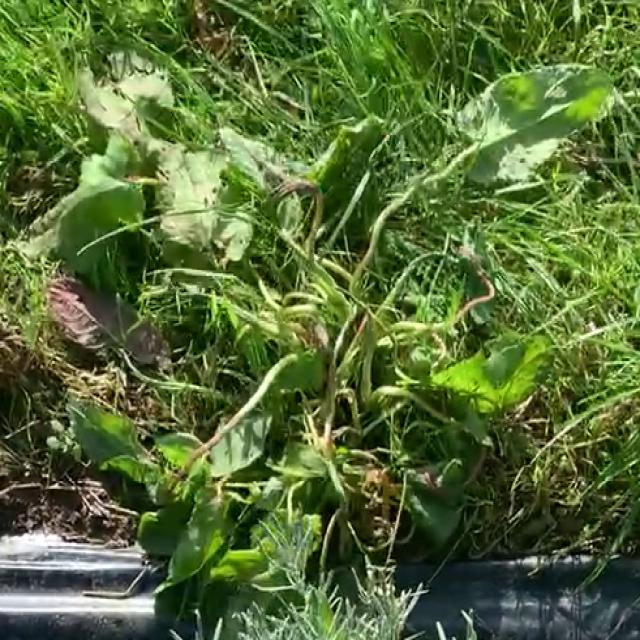organic waste: (67, 48, 632, 593)
